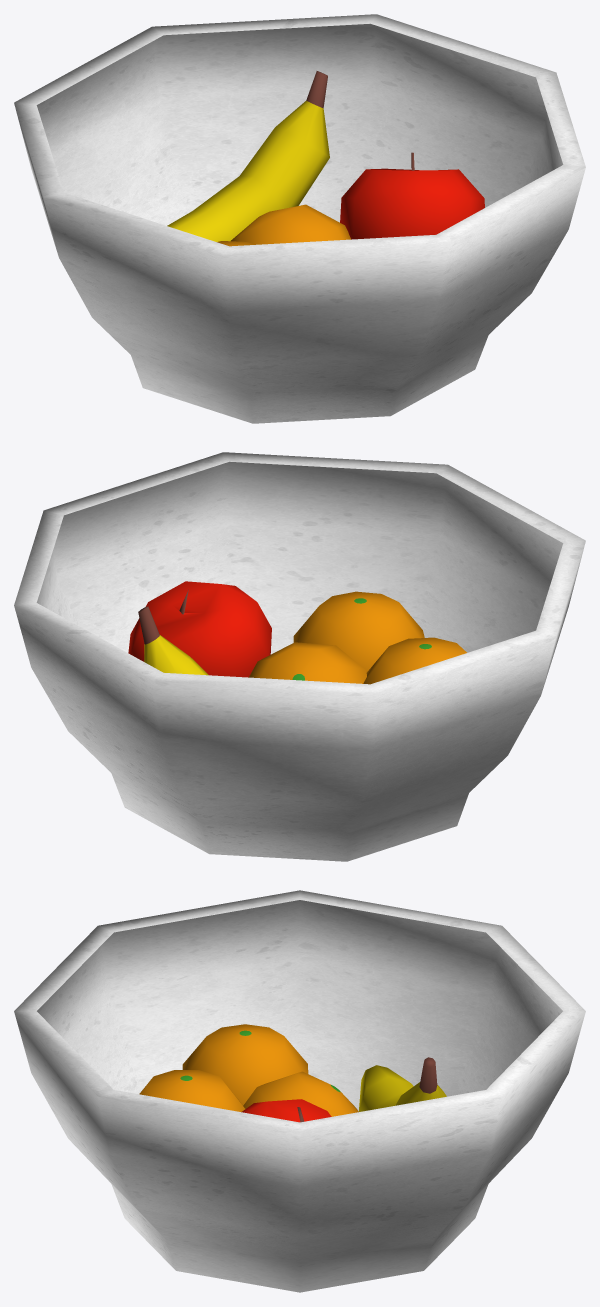
The model's file is FruitBowl.fbx.
3 views of the same model, one above another, from view 1: azimuth 30°, elevation 25°; view 2: azimuth 150°, elevation 25°; view 3: azimuth 270°, elevation 25° (orthographic). The views are drawn at different scales.
Visible parts, largest first — view 1: Cylinder.015; view 2: Cylinder.015; view 3: Cylinder.015.
Boxes of the visible parts, x1=… form: Cylinder.015: x1=14, y1=14, x2=585, y2=423; Cylinder.015: x1=14, y1=452, x2=585, y2=861; Cylinder.015: x1=14, y1=890, x2=585, y2=1292.
Size of the model in its own units: 30 by 12 by 30.
Materials: 6 (1 with a texture image).
